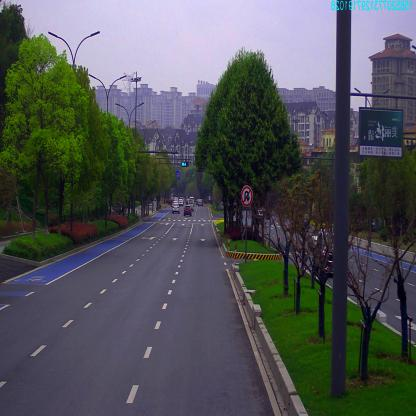traffic-light: (181, 160, 188, 167)
